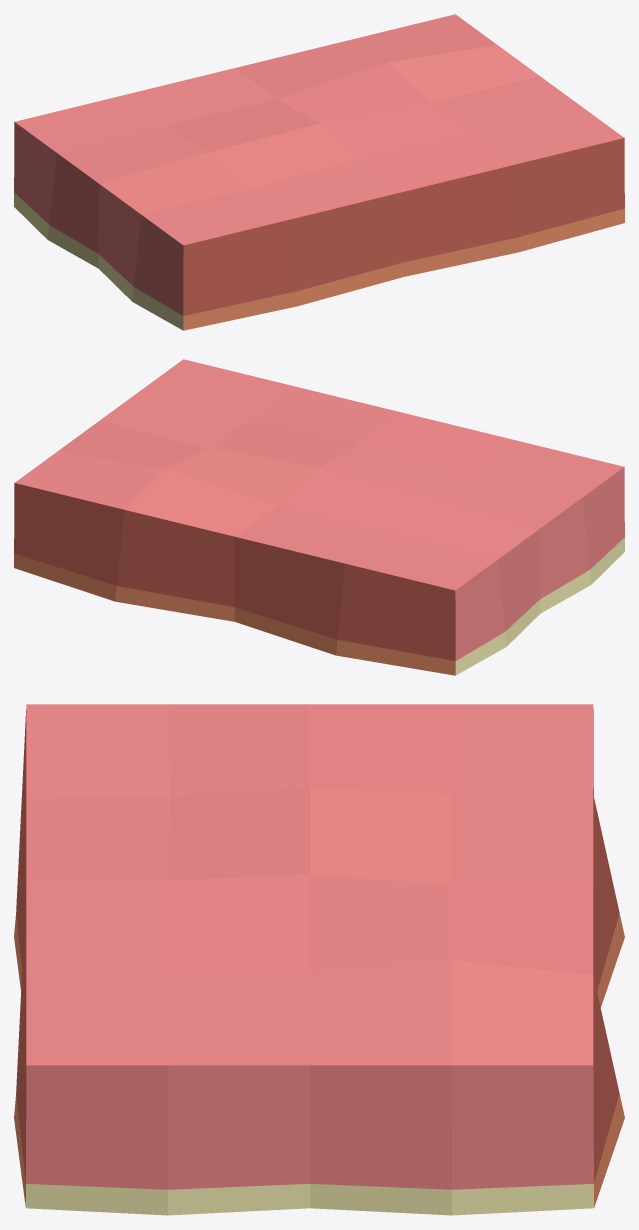
The model's file is Table Cloth.fbx.
The picture shows the model from 3 angles, top to bottom: view 1: azimuth 30°, elevation 25°; view 2: azimuth 150°, elevation 25°; view 3: azimuth 270°, elevation 25°; orthographic projection. The views are drawn at different scales.
Parts seen in each view (by area): view 1: Table Cloth; view 2: Table Cloth; view 3: Table Cloth.
Part boxes in pixels (box(x1,y1,x2,y2)): Table Cloth: box(14, 14, 624, 330); Table Cloth: box(14, 359, 624, 675); Table Cloth: box(14, 704, 624, 1215).
Bounding box in the file's own units: 411 × 81.29 × 283.
